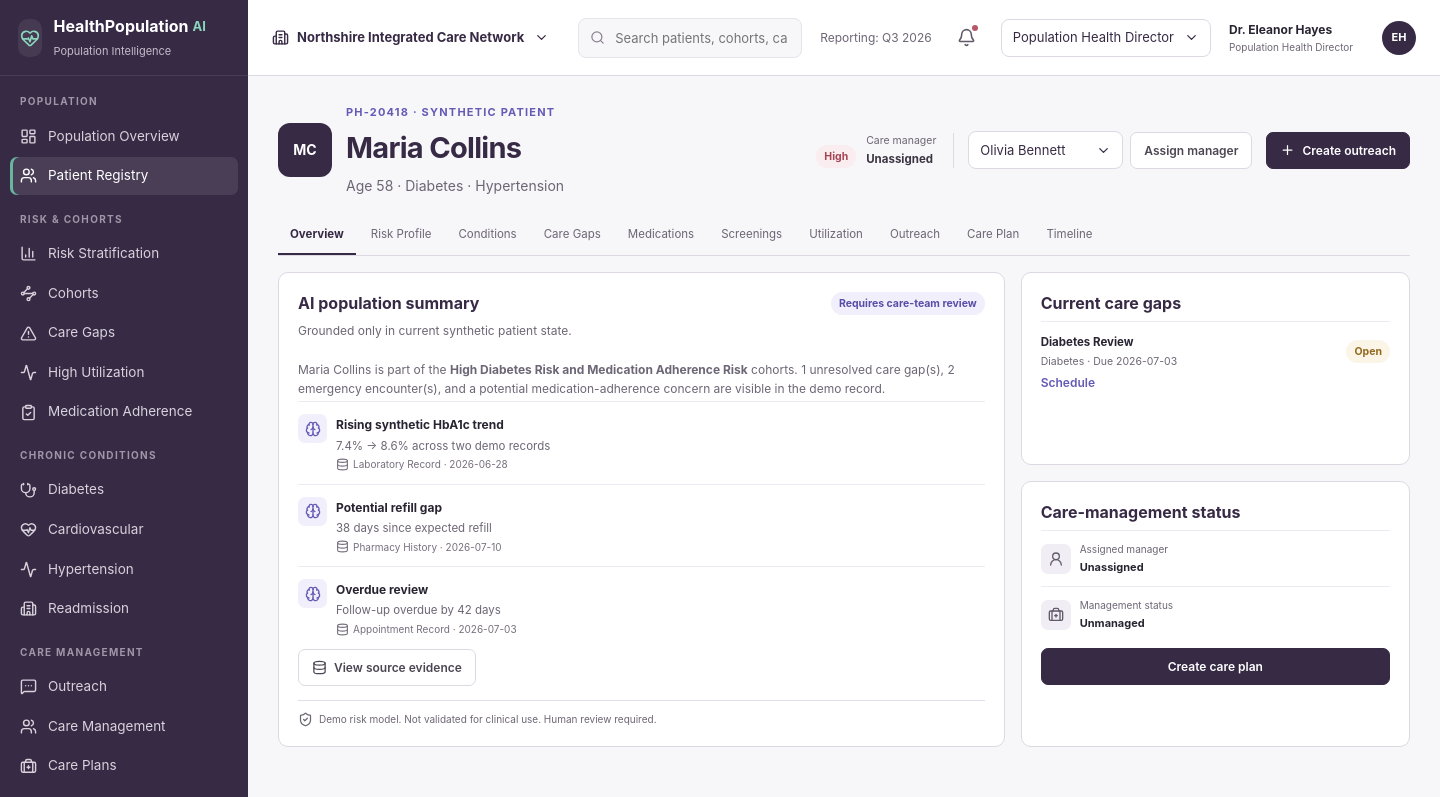
Scenario: route-level product QA › renders patient-specific medication, screening and utilization tabs
Click the button "Medications": (661, 235) [616,216,706,255]
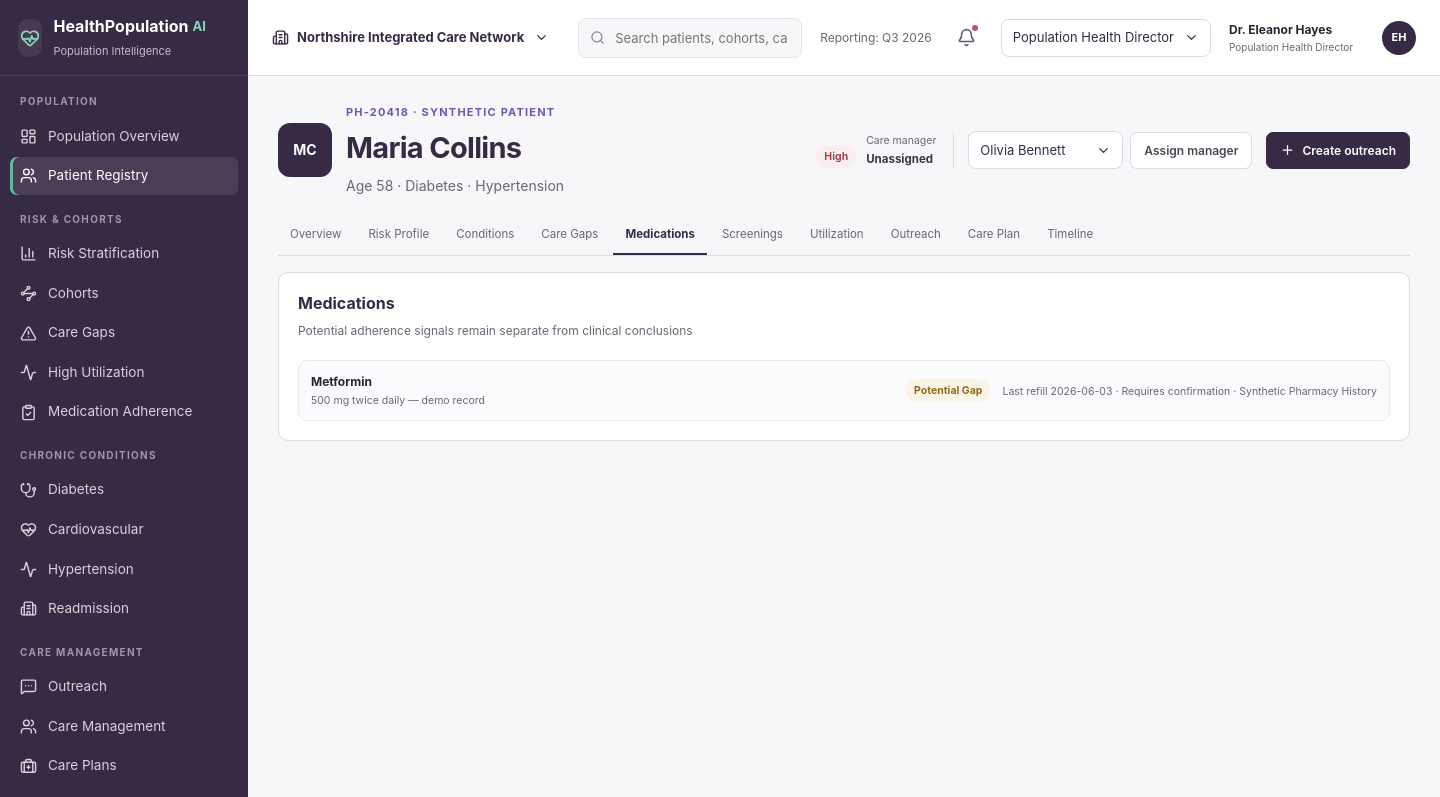
Expected: the text "Metformin" is shown, [311,374,372,389]
Click the button "Screenings": (752, 235) [710,216,795,255]
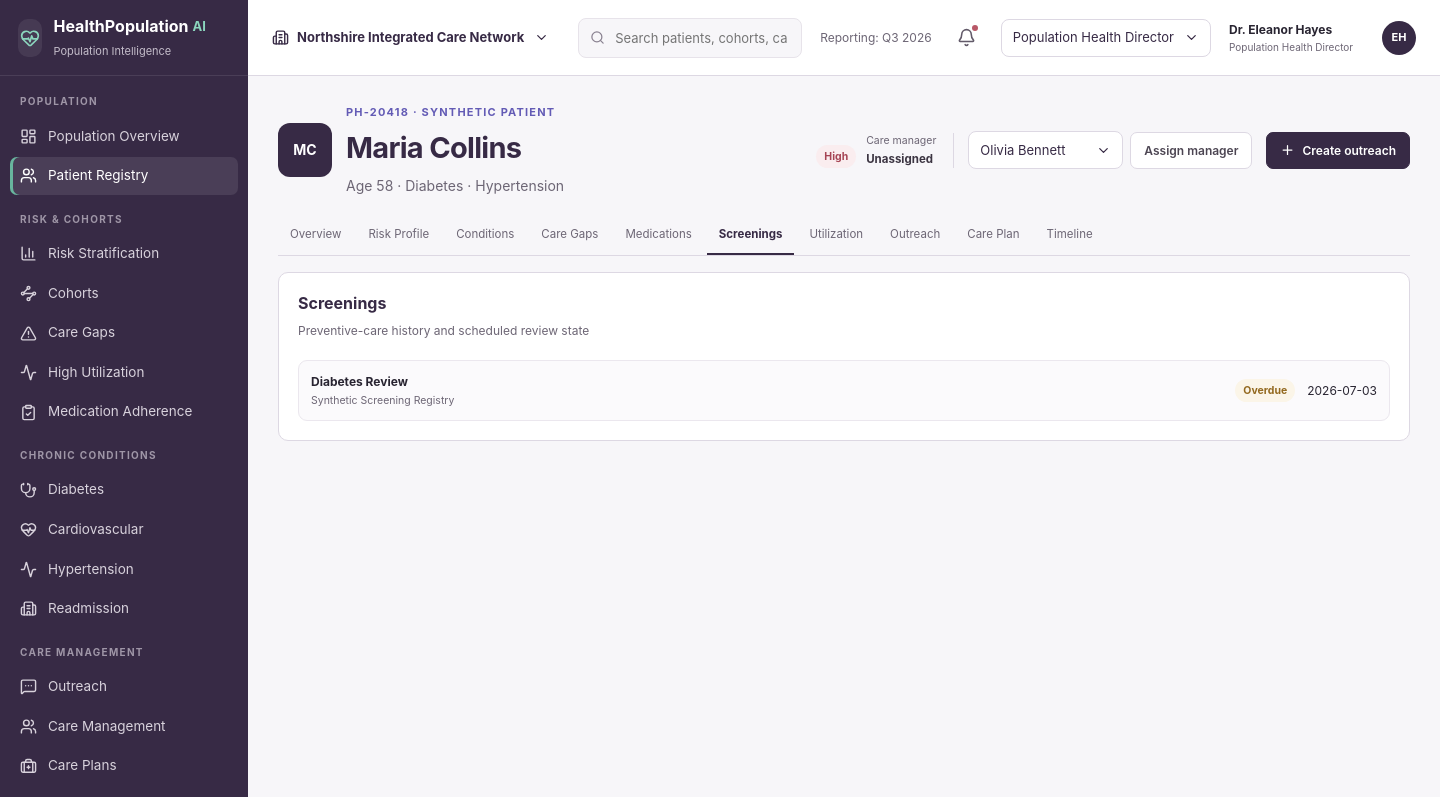
Expected: the text "Diabetes Review" is shown, [311,374,408,389]
Click the button "Utilization": (836, 235) [797,216,875,255]
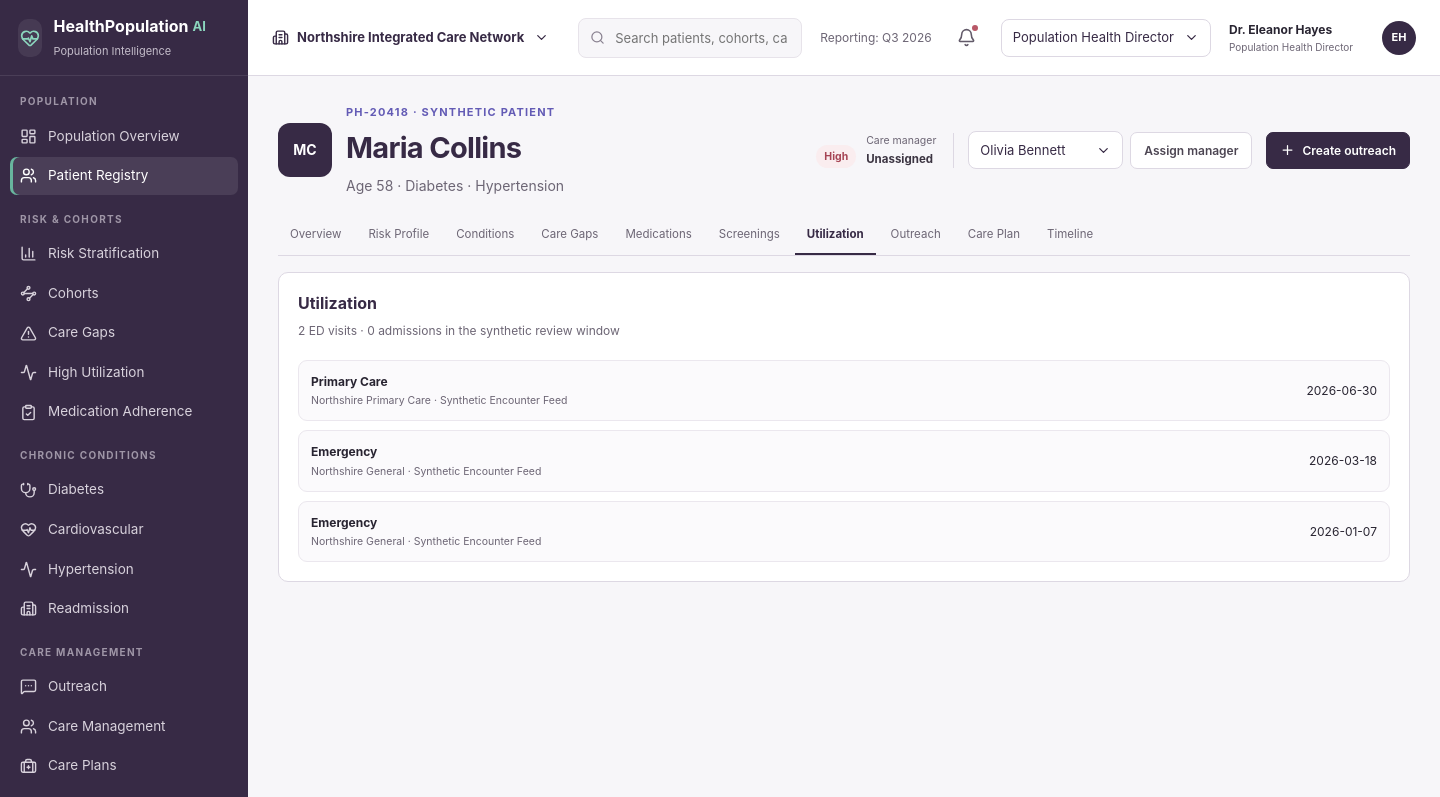
Expected: the text "2 ED visits · 0 admissions in the synthetic review window" is shown, [298,321,620,341]
